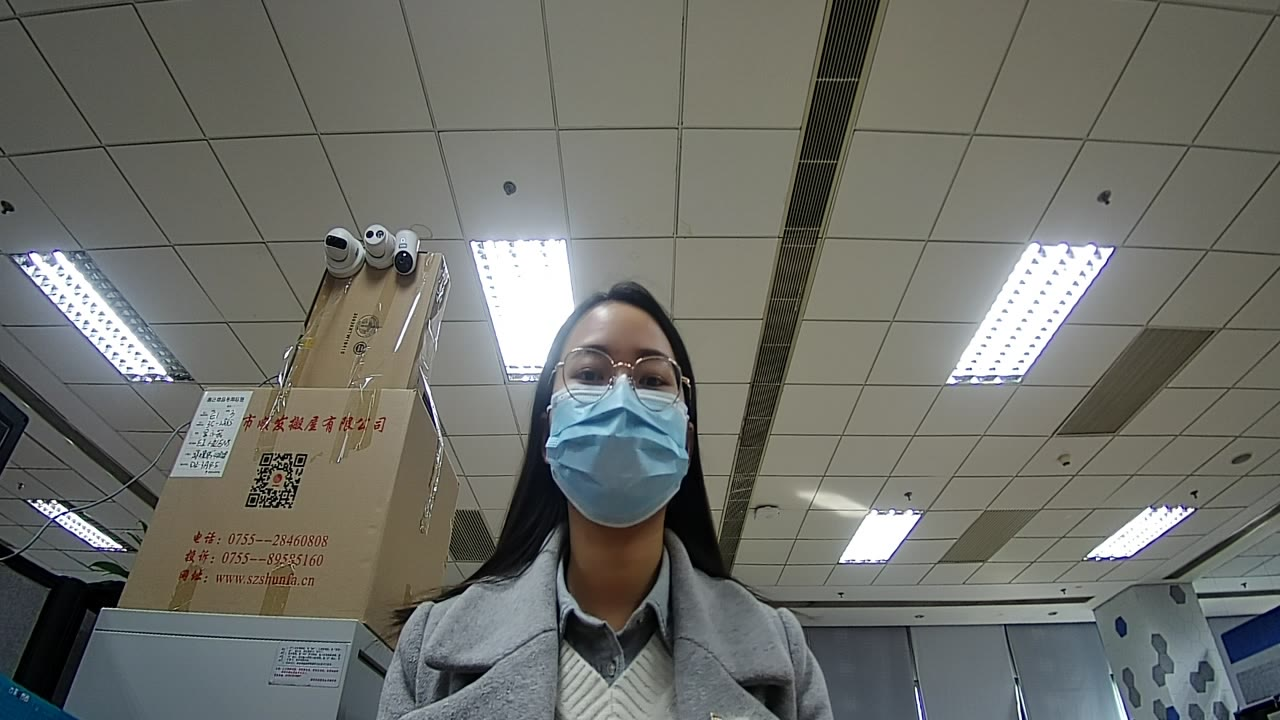face: (533, 294, 706, 524)
mask: (552, 389, 698, 521)
person: (382, 282, 831, 719)
